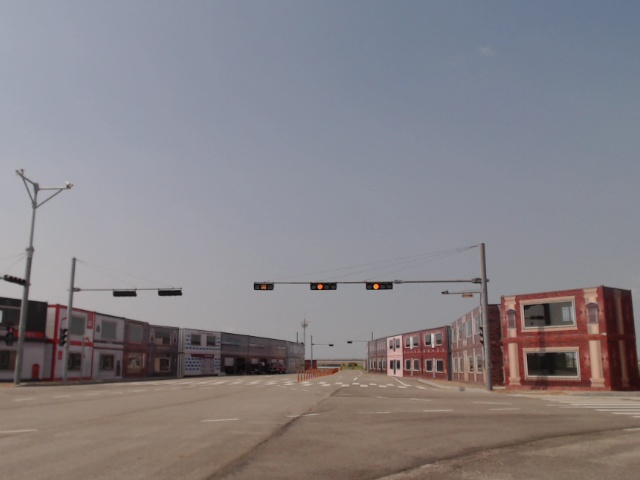orange_4: (363, 279, 393, 291), (311, 282, 338, 290)
